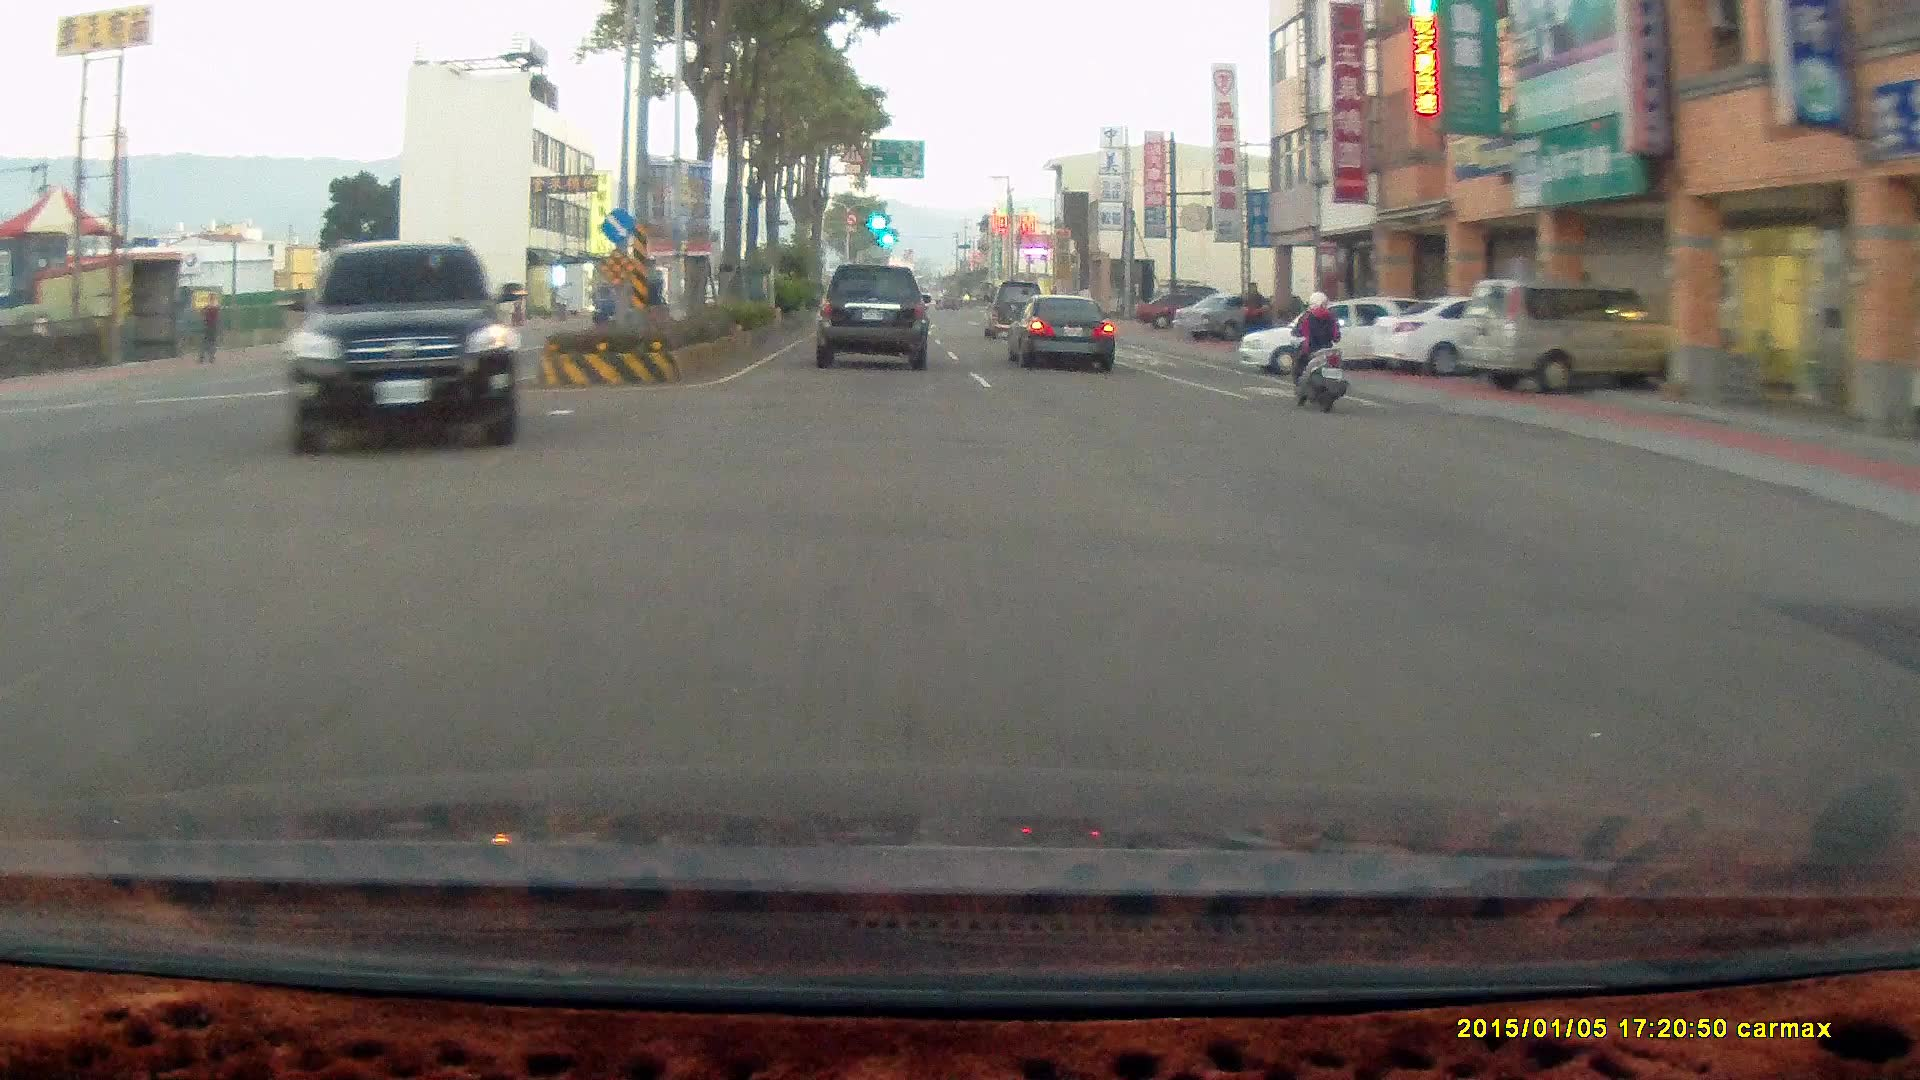pedestrian: (1239, 280, 1268, 349), (197, 291, 221, 364)
rider: (1275, 283, 1357, 419), (1285, 290, 1349, 414)
vehicle: (275, 238, 528, 454), (288, 235, 525, 457), (1452, 277, 1696, 391), (1466, 280, 1675, 400), (1367, 296, 1574, 383), (1368, 292, 1576, 377), (1241, 302, 1435, 378), (1236, 295, 1417, 374), (812, 262, 936, 373), (814, 262, 931, 367), (1007, 302, 1126, 381), (1005, 290, 1113, 371), (1171, 292, 1279, 338), (980, 279, 1047, 338), (1132, 288, 1222, 326)
